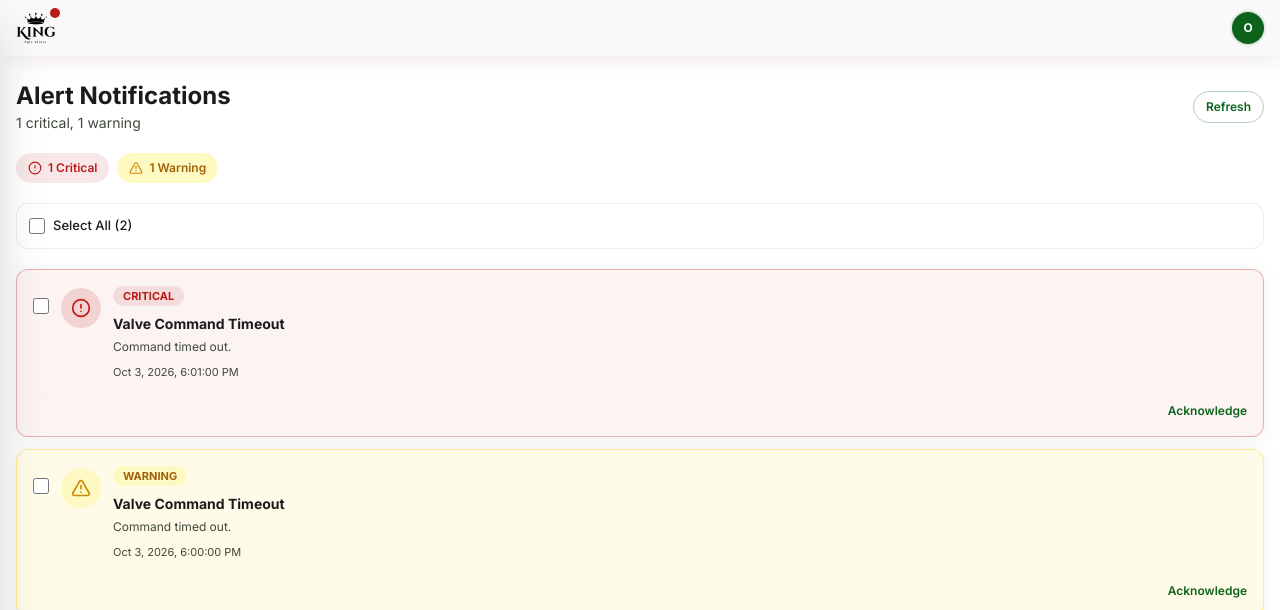
Test: Notifications UI - Bulk Acknowledgement Interactions › does not render Acknowledge All button and acknowledges individual selected alerts
Expected: the text "1 Critical" is shown, x1=48 y1=159 x2=97 y2=177
Note: Select single open alert
Click the checkbox with test id "checkbox-select-alert-1" at {"x": 41, "y": 486}, box x1=33 y1=478 x2=49 y2=494
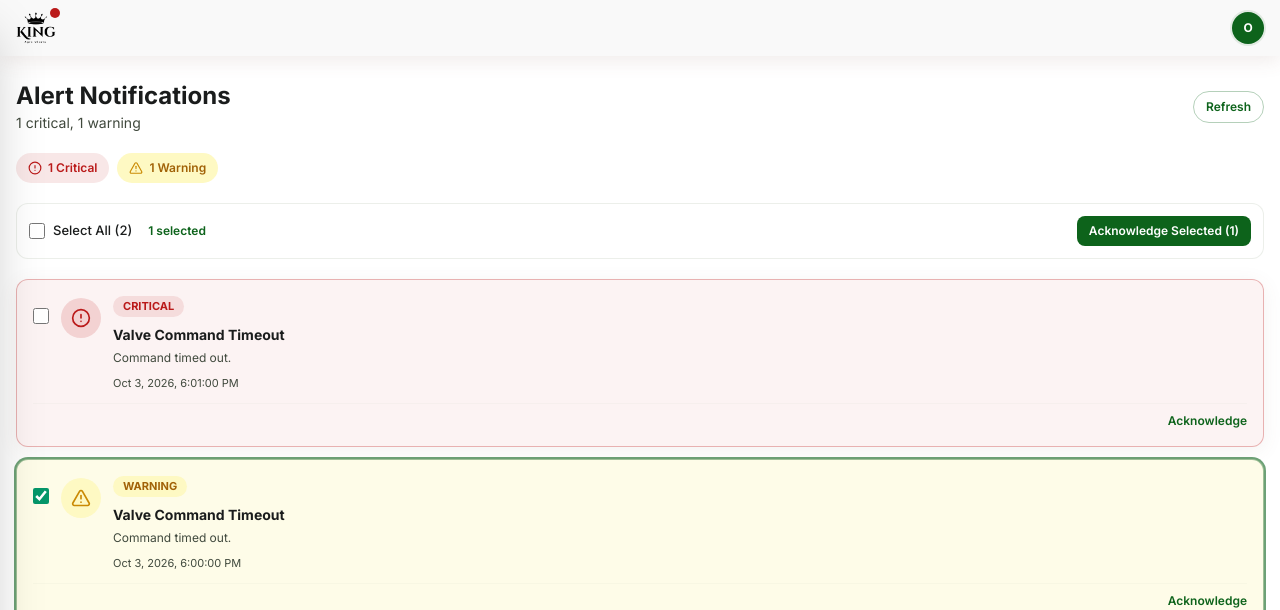
Result: the button with test id "btn-acknowledge-selected" is shown
Result: the button with test id "btn-acknowledge-selected" reads "Acknowledge Selected (1)"
Click the button with test id "btn-acknowledge-selected" at {"x": 1164, "y": 231}, box x1=1077 y1=216 x2=1251 y2=246
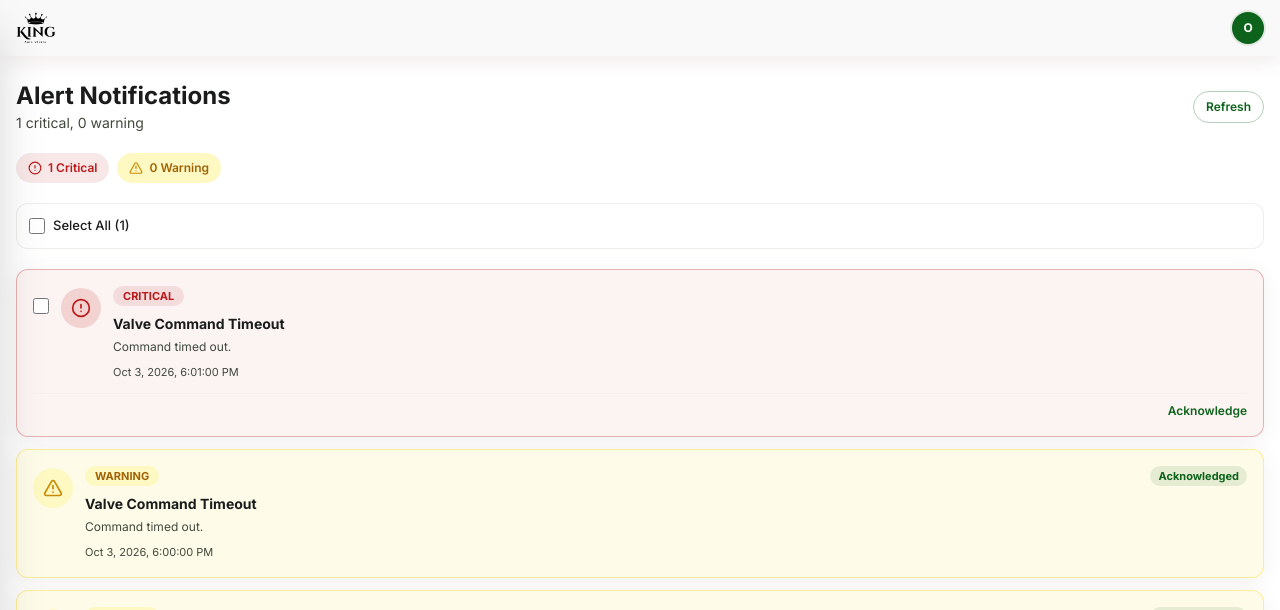
Result: the text "0 Warning" is shown at x1=149 y1=159 x2=209 y2=177
